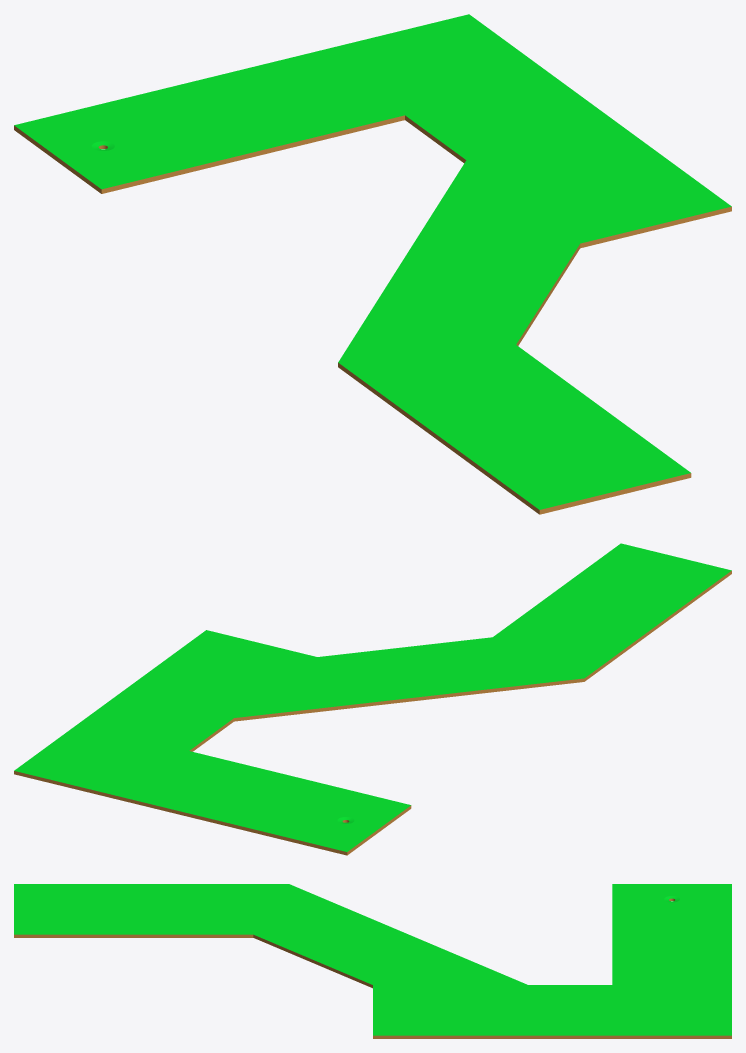
Rendered from hole1.fbx.
The picture shows the model from 3 angles, top to bottom: view 1: azimuth 30°, elevation 25°; view 2: azimuth 150°, elevation 25°; view 3: azimuth 270°, elevation 25°; orthographic projection. The views are drawn at different scales.
Parts seen in each view (by area): view 1: Hole1; view 2: Hole1; view 3: Hole1.
Part boxes in pixels (box(x1,y1,x2,y2)): Hole1: box(14, 14, 731, 514); Hole1: box(14, 543, 731, 855); Hole1: box(14, 884, 731, 1038).
Size of the model in its own units: 3 by 6 by 0.03.
